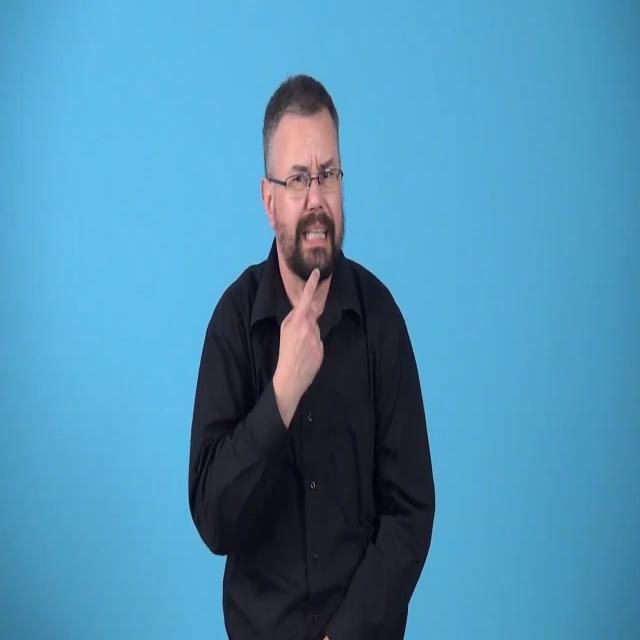repeat: (266, 255, 330, 440)
